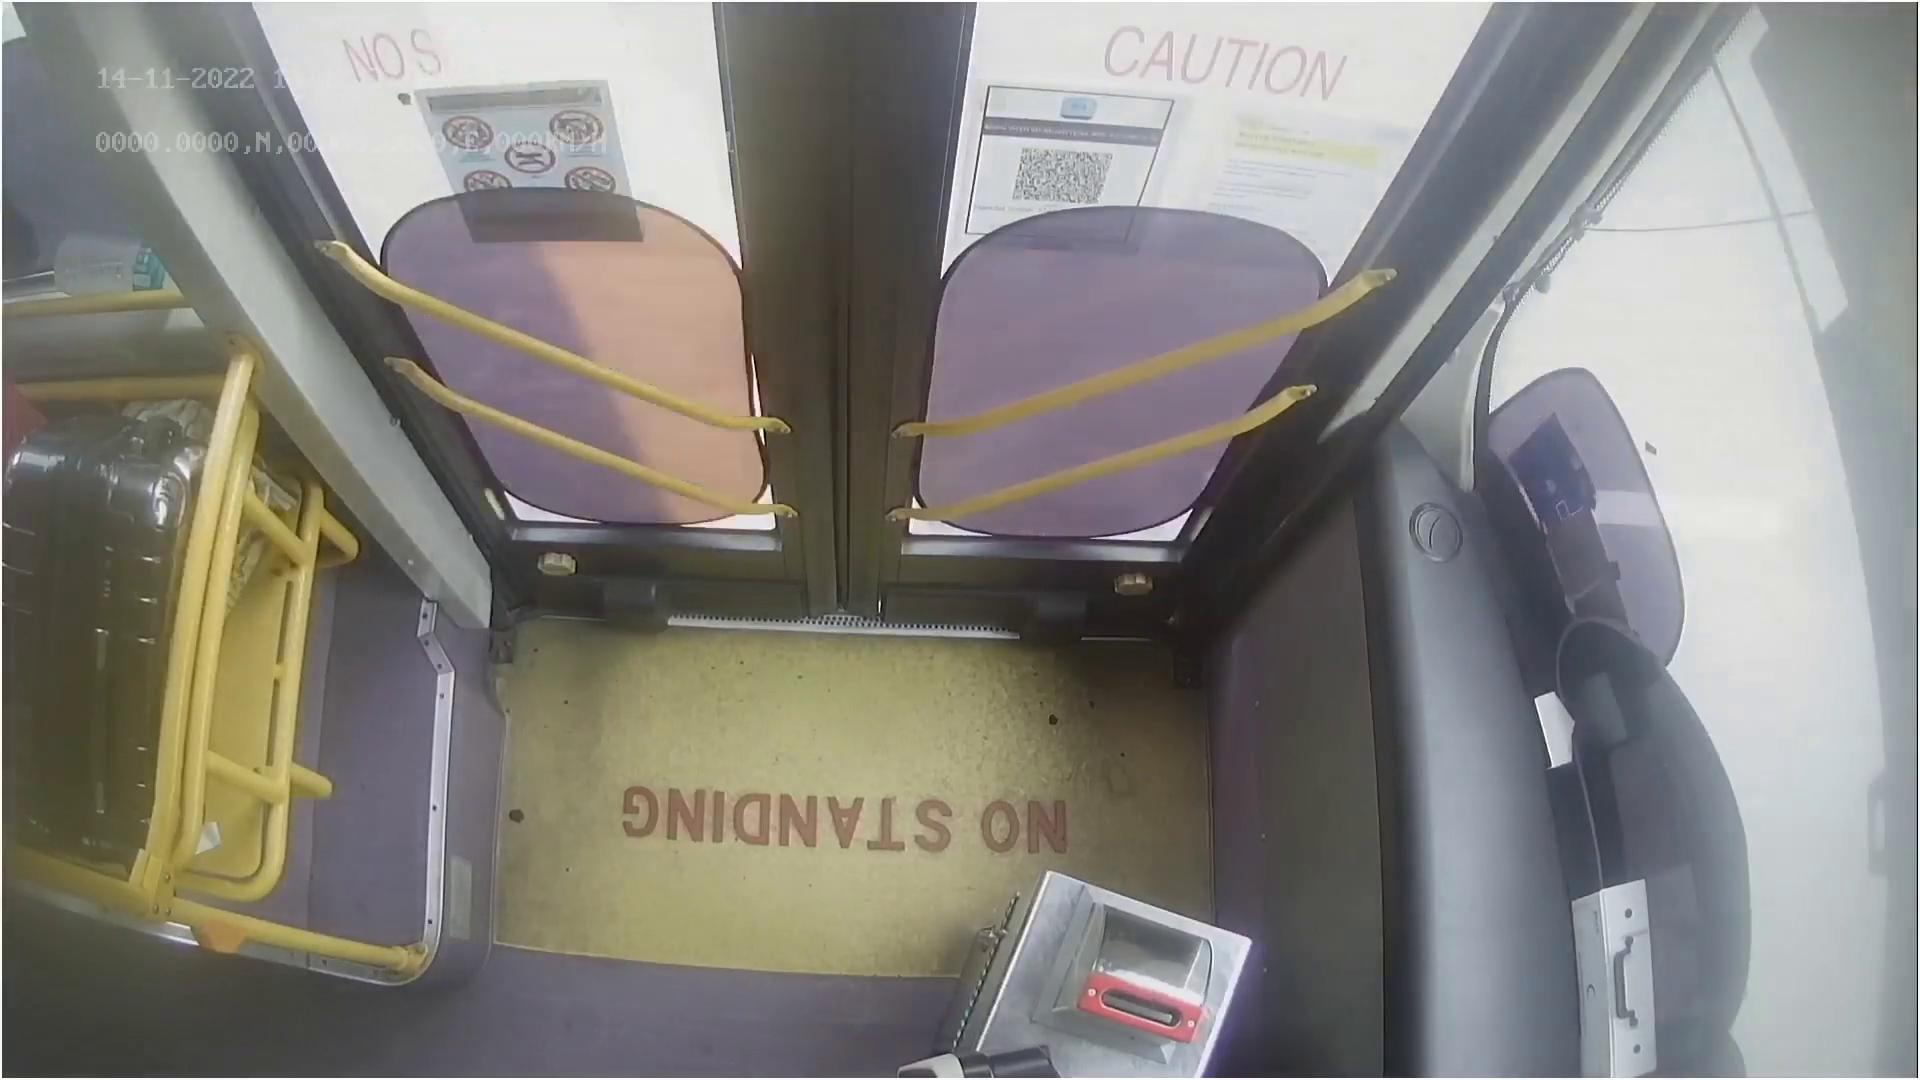close: (282, 0, 1429, 179)
